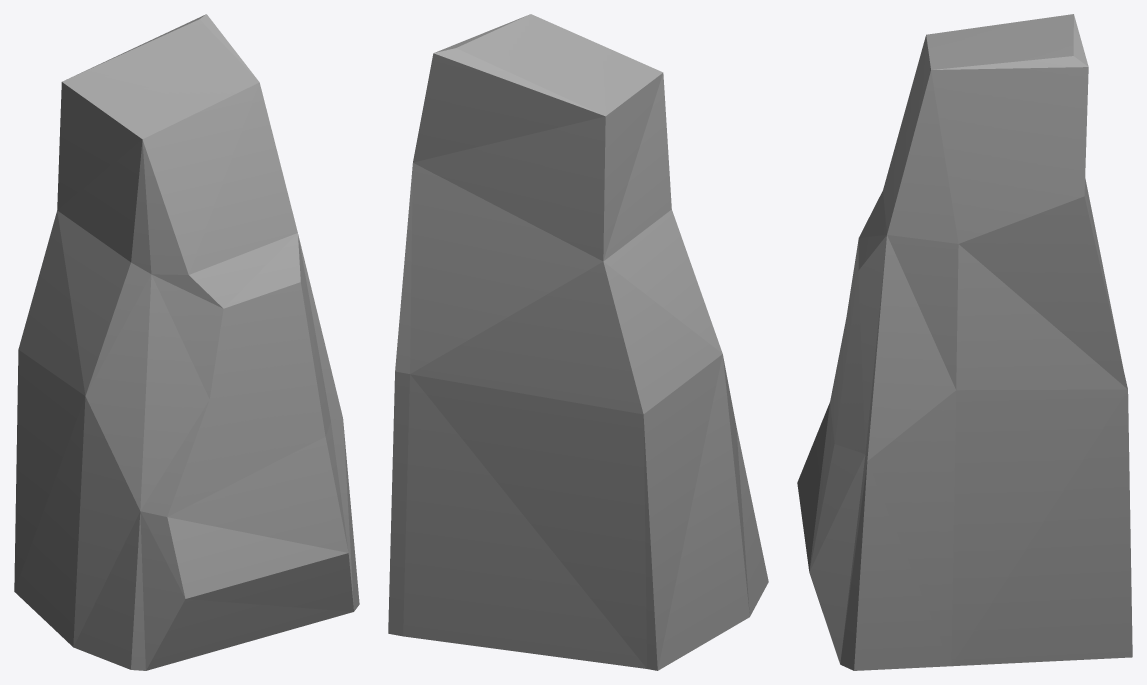
Rendered from stone-small-8.glb.
3 renders of one model, left to right at view 1: azimuth 30°, elevation 25°; view 2: azimuth 150°, elevation 25°; view 3: azimuth 270°, elevation 25°, orthographic. The views are drawn at different scales.
Parts seen in each view (by area): view 1: stone small 8; view 2: stone small 8; view 3: stone small 8.
Part boxes in pixels (left/top/right/bottom): stone small 8: left=14, top=14, right=359, bottom=670; stone small 8: left=388, top=14, right=768, bottom=670; stone small 8: left=797, top=14, right=1132, bottom=670.
Bounding box in the file's own units: 0.4632 × 0.9017 × 0.4708.
1 material, 1 textured.
